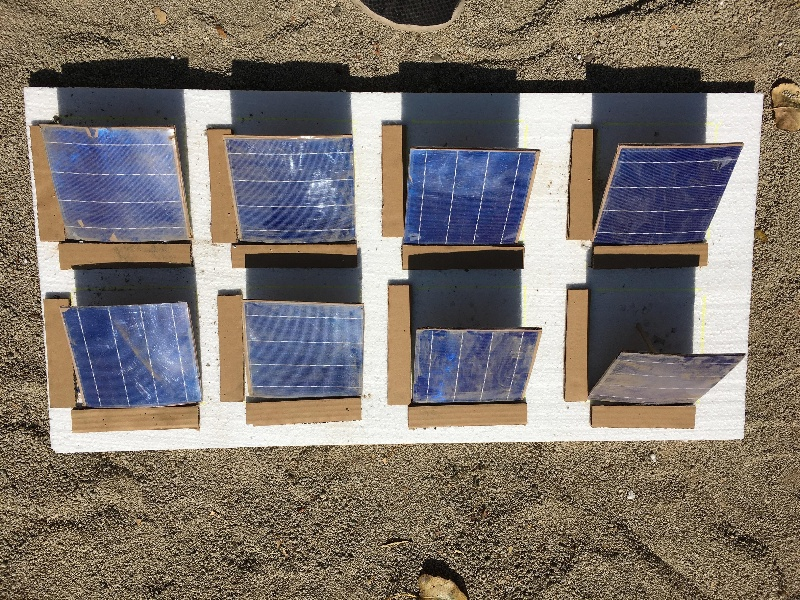clean: (594, 142, 745, 245), (62, 304, 204, 407), (409, 150, 531, 250)
dirty: (37, 124, 191, 245), (218, 135, 360, 246), (240, 299, 367, 397), (588, 349, 746, 408), (410, 332, 541, 400)
